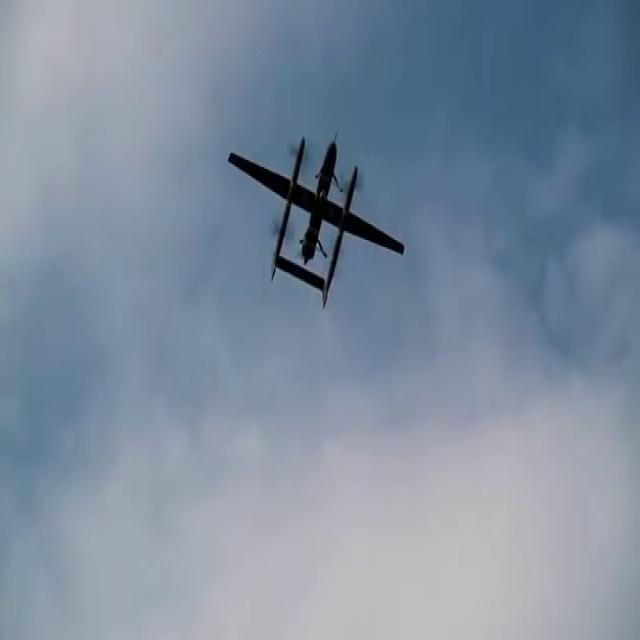iha: (228, 135, 406, 306)
